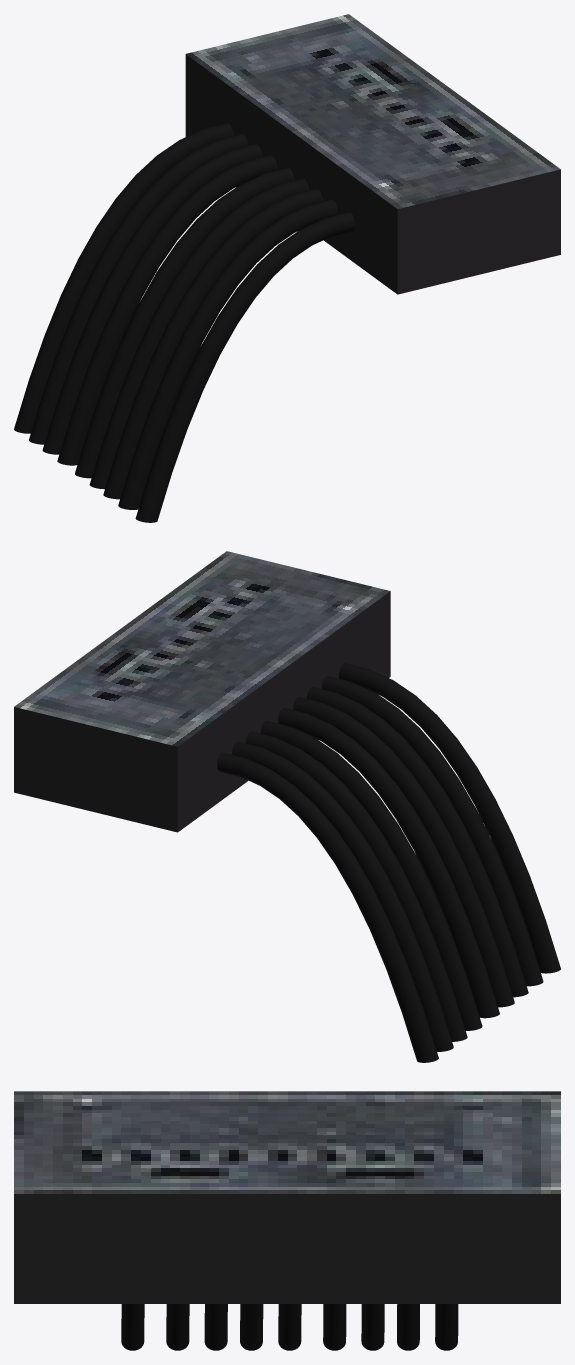
File: power.FBX
3 views of the same model, one above another, from view 1: azimuth 30°, elevation 25°; view 2: azimuth 150°, elevation 25°; view 3: azimuth 270°, elevation 25° (orthographic). The views are drawn at different scales.
Parts seen in each view (by area): view 1: Box001; view 2: Box001; view 3: Box001.
Part boxes in pixels (bbox=[...]): Box001: bbox=[14, 14, 560, 522]; Box001: bbox=[14, 551, 560, 1062]; Box001: bbox=[14, 1091, 560, 1350].
Size of the model in its own units: 0.7297 by 0.5465 by 0.7087.
3 materials, 1 textured.
